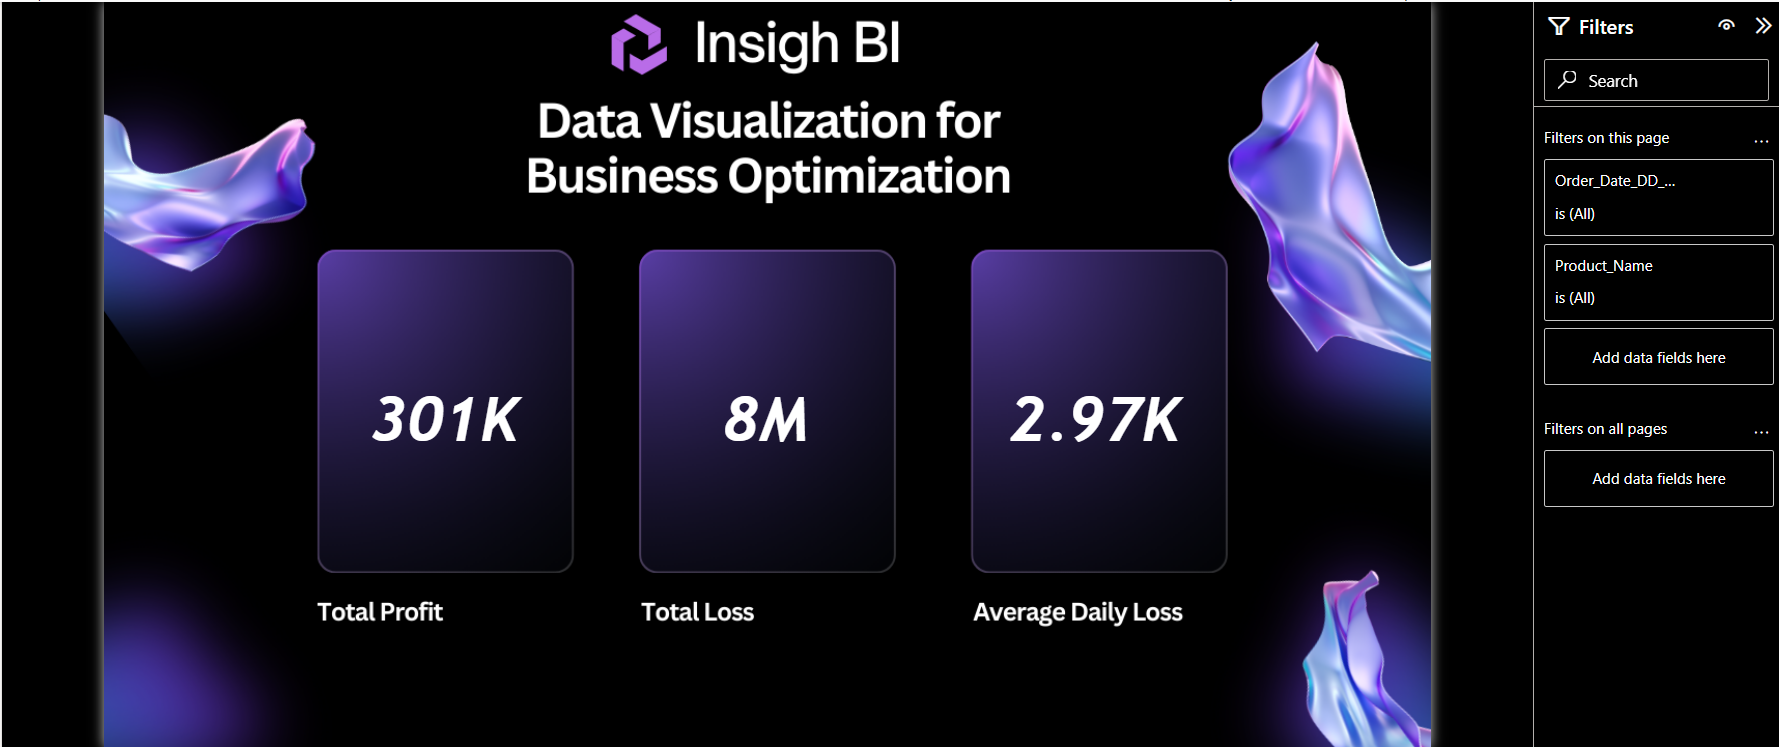

The page's visual inventory and layout, read from the dashboard file:
{"tool":"powerbi","page":{"name":"Page 2","canvas":[1280,720],"ordinal":1},"visuals":[{"type":"card","fields":{"Values":["Measures Table.Total Profit"]},"box":[215.4,288.2,227.8,219.6],"z":0},{"type":"card","fields":{"Values":["Measures Table.Total Loss"]},"box":[524.8,288.3,228,219.6],"z":1},{"type":"card","fields":{"Values":["Measures Table.Average Loss Per Day"]},"box":[843.3,288.3,228,219.6],"z":2}]}

Visuals, with their boxes on the page's 1280x720 design canvas (x1, y1, x2, y2). These are canvas units, not pixel positions in the 1779x747 screenshot, which may show the page scaled, cropped or inside an application window:
card - Measures Table.Total Profit: region(215, 288, 443, 508)
card - Measures Table.Total Loss: region(525, 288, 753, 508)
card - Measures Table.Average Loss Per Day: region(843, 288, 1071, 508)
